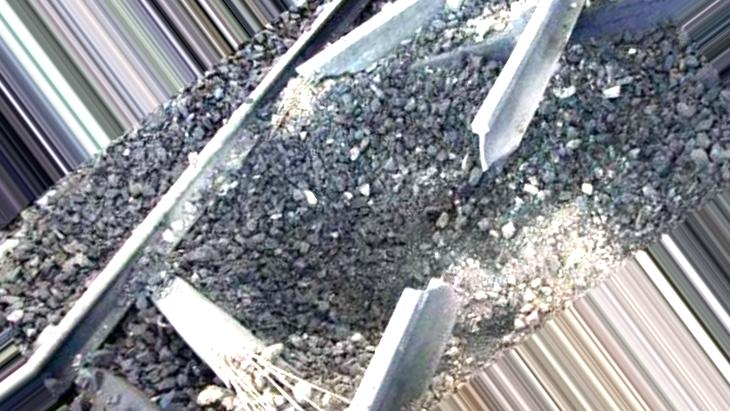tracks_fault: (355, 81, 575, 355), (216, 56, 328, 173), (214, 333, 354, 409)
